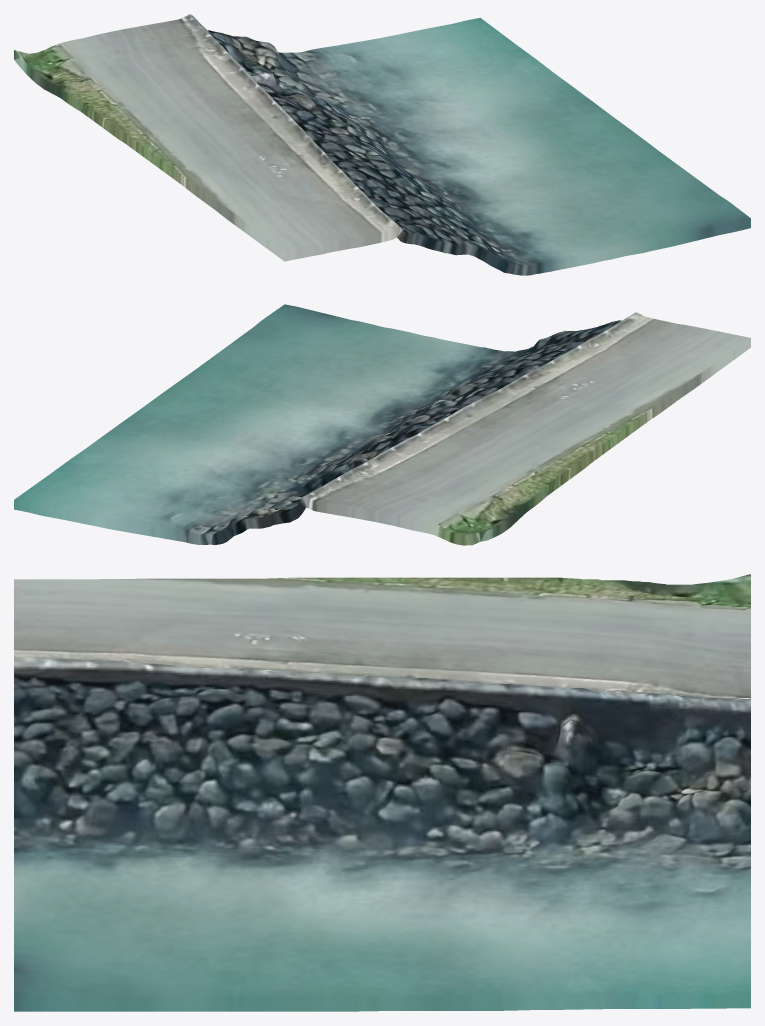
File: z20-167555-405170-h0-yup-uvflip-v3-world.glb
The picture shows the model from 3 angles, top to bottom: view 1: azimuth 30°, elevation 25°; view 2: azimuth 150°, elevation 25°; view 3: azimuth 270°, elevation 25°; orthographic projection. The views are drawn at different scales.
Size of the model in its own units: 30.16 by 5.8 by 30.32.
1 material, 1 textured.
